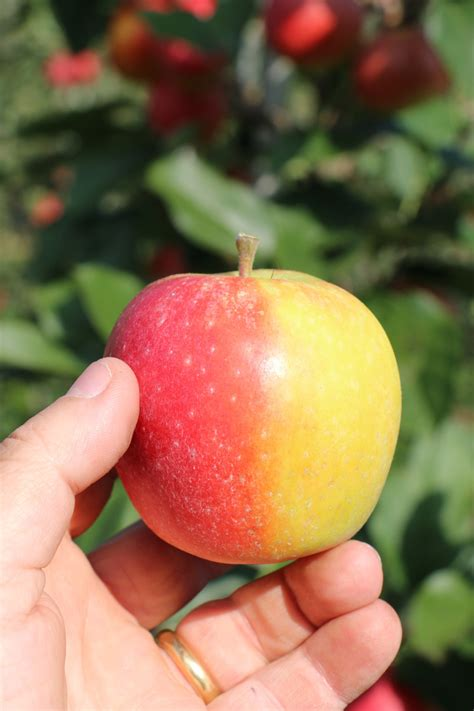apple: (97, 223, 407, 569)
